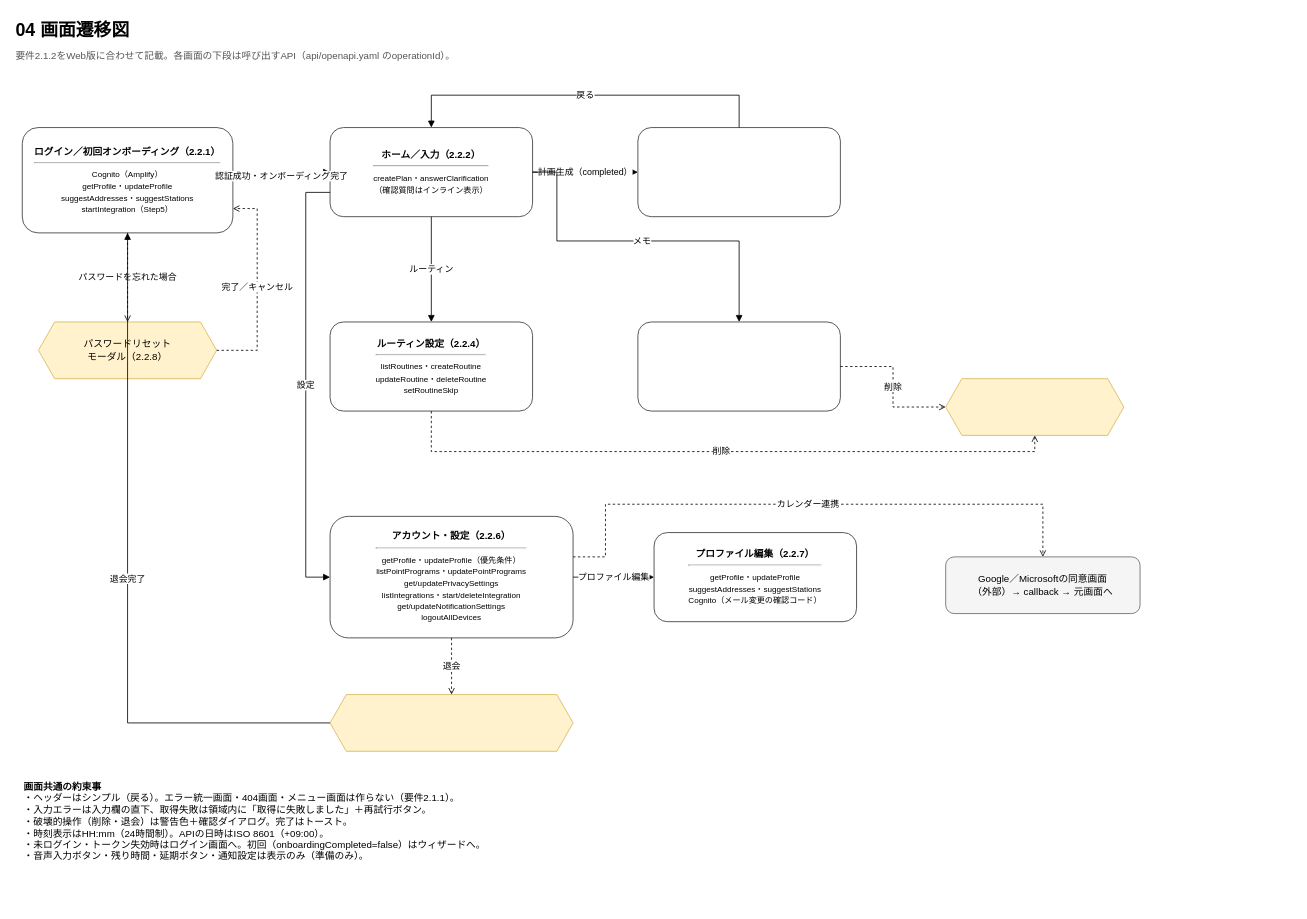
The diagram is 1307 pixels wide and 919 high, and some of its shapes have lost their labels. Here are the shapes that lost their labels. From the top down, the centre of each, then its label:
At (738,172): "行動計画結果（2.2.3） getPlan・revisePlan・deletePlanItem replanPlan（準備のみ）".
At (738,366): "メモ・買い物リスト（2.2.5） listMemos・createMemo updateMemo・deleteMemo".
At (1034,406): "削除確認ダイアログ（2.2.10）".
At (451,722): "退会確認ダイアログ（2.2.9） deleteAccount".
